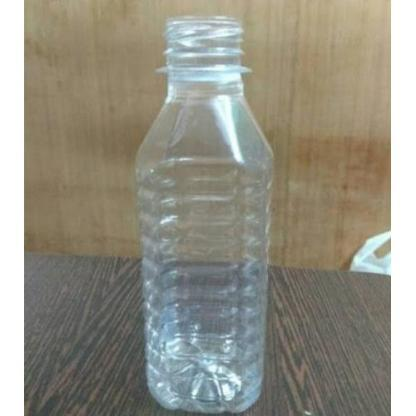Plastic Bottle: (132, 10, 288, 416)
